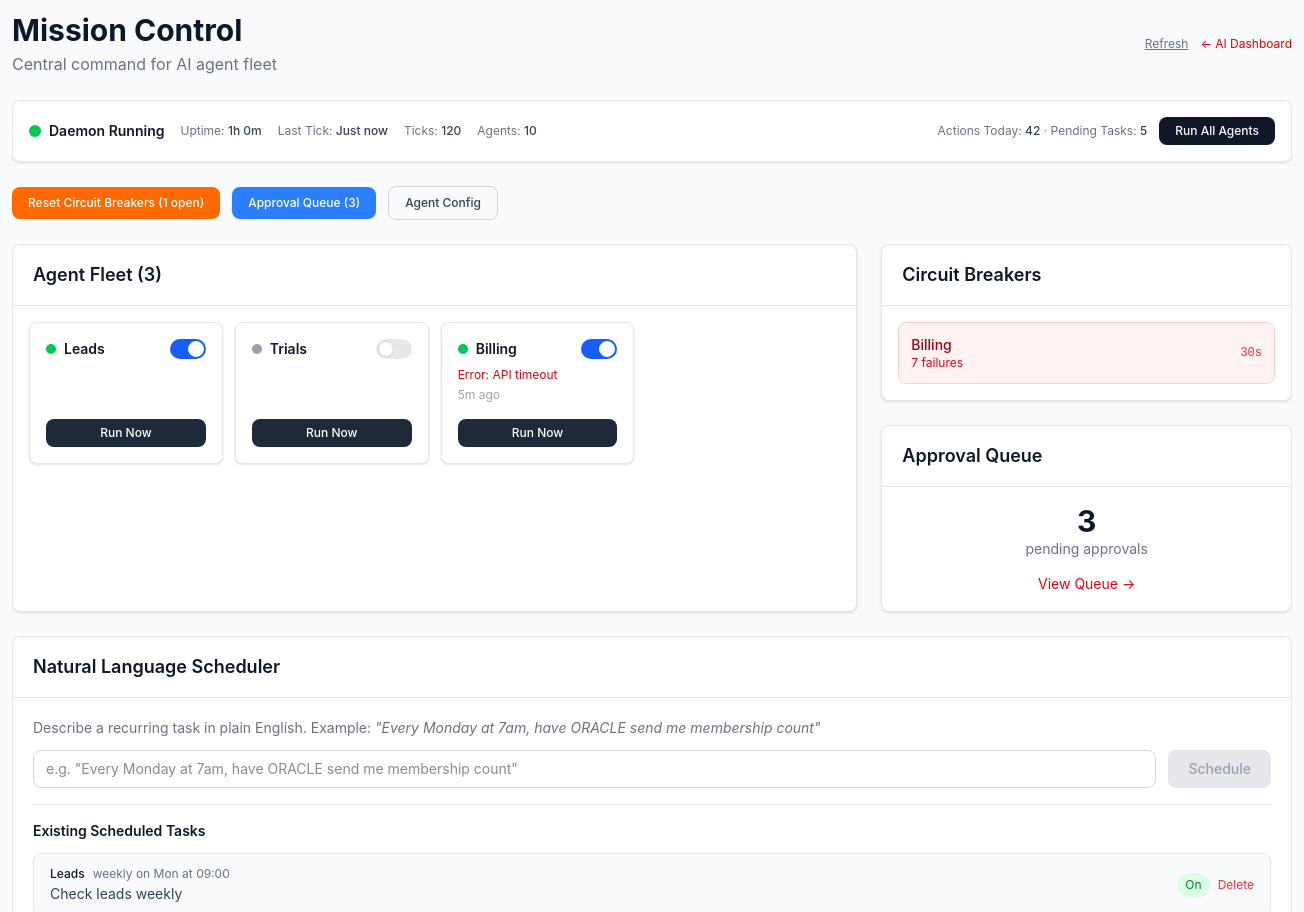
Scenario: MissionControl › cancels task deletion
Step 1. Click the button "Delete" → (1236, 885), box [1218,877,1254,893]
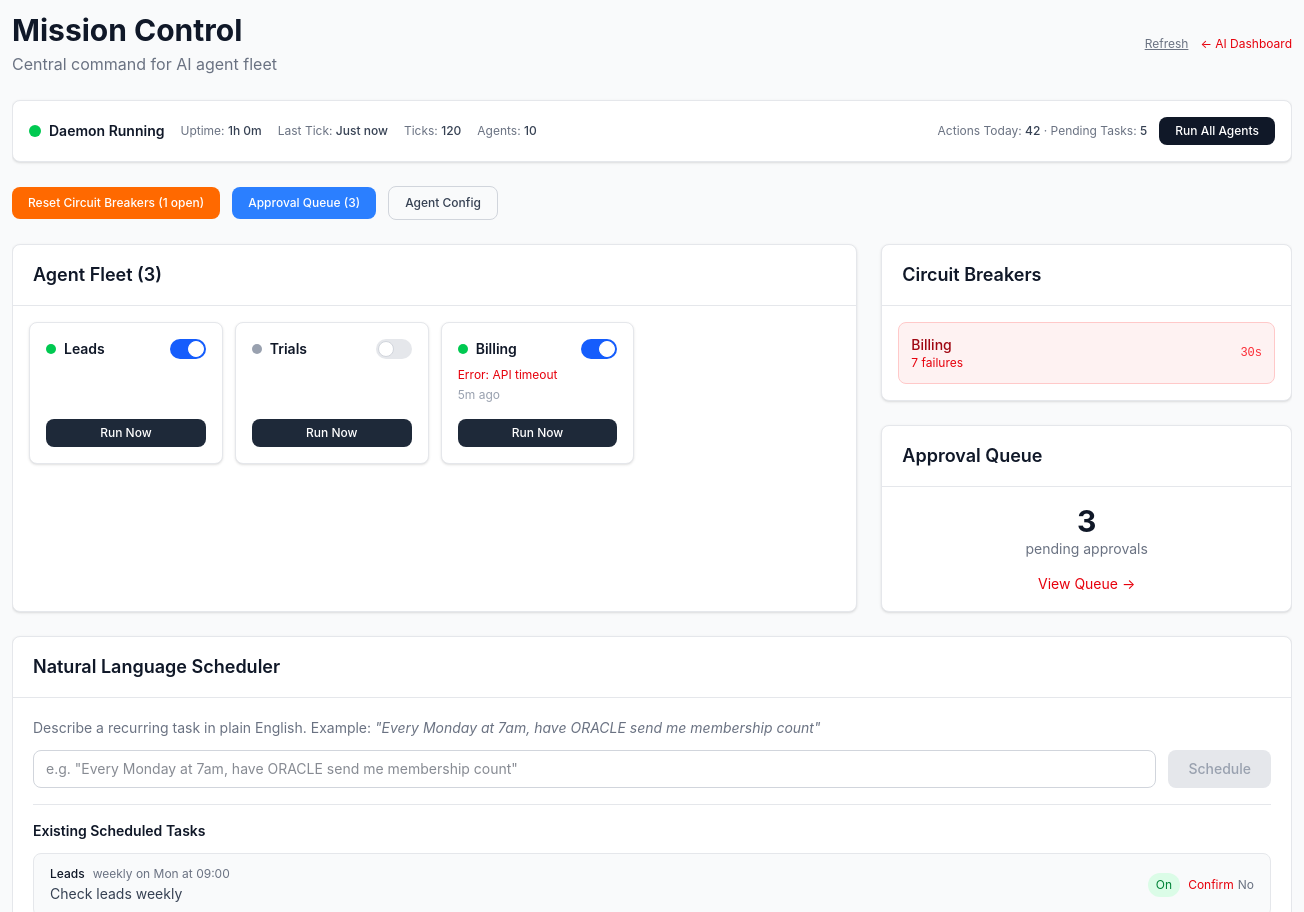
Step 2. Click the button "No" → (1246, 885), box [1238,877,1254,893]
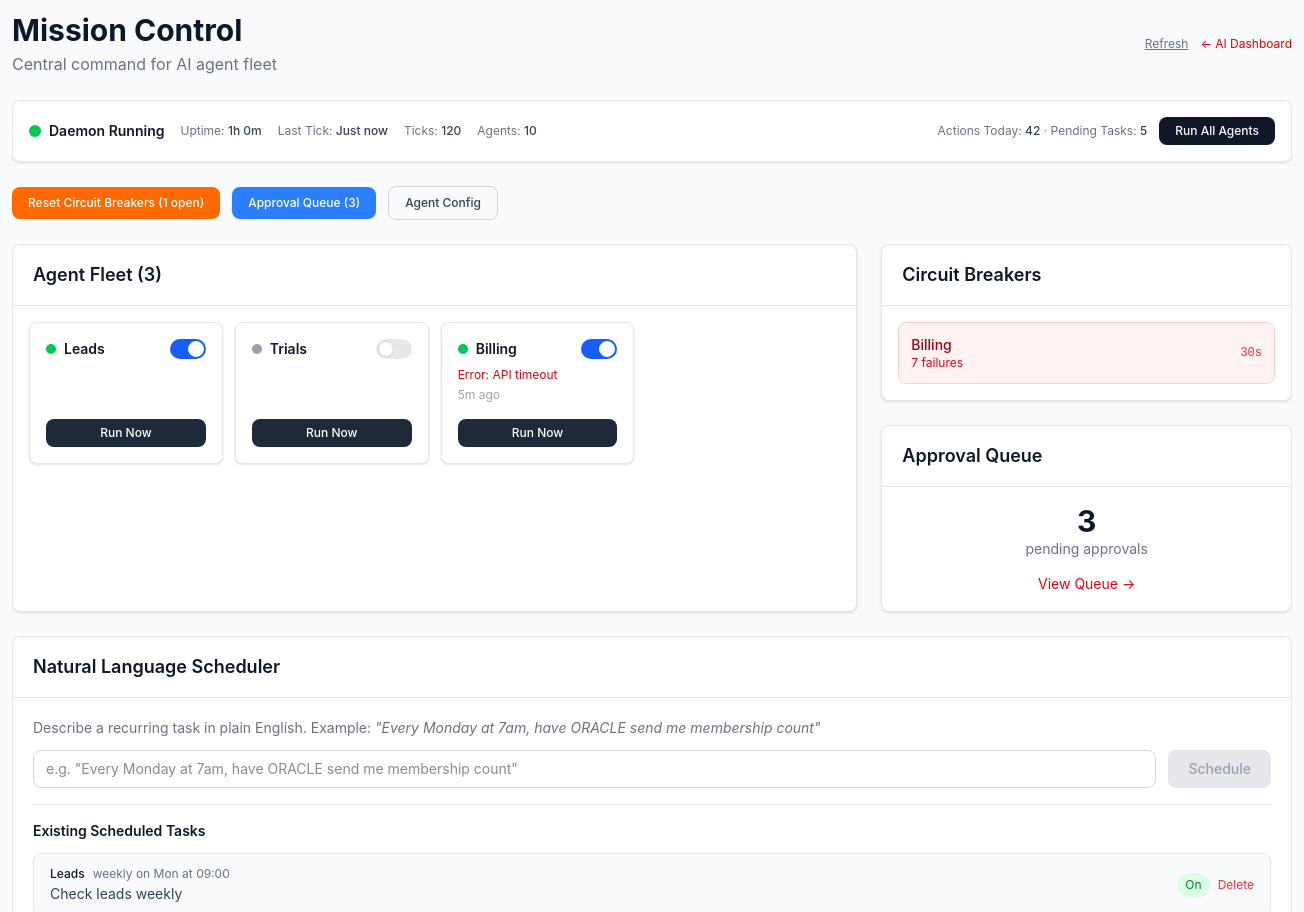
Expected: the button "Confirm" is gone
